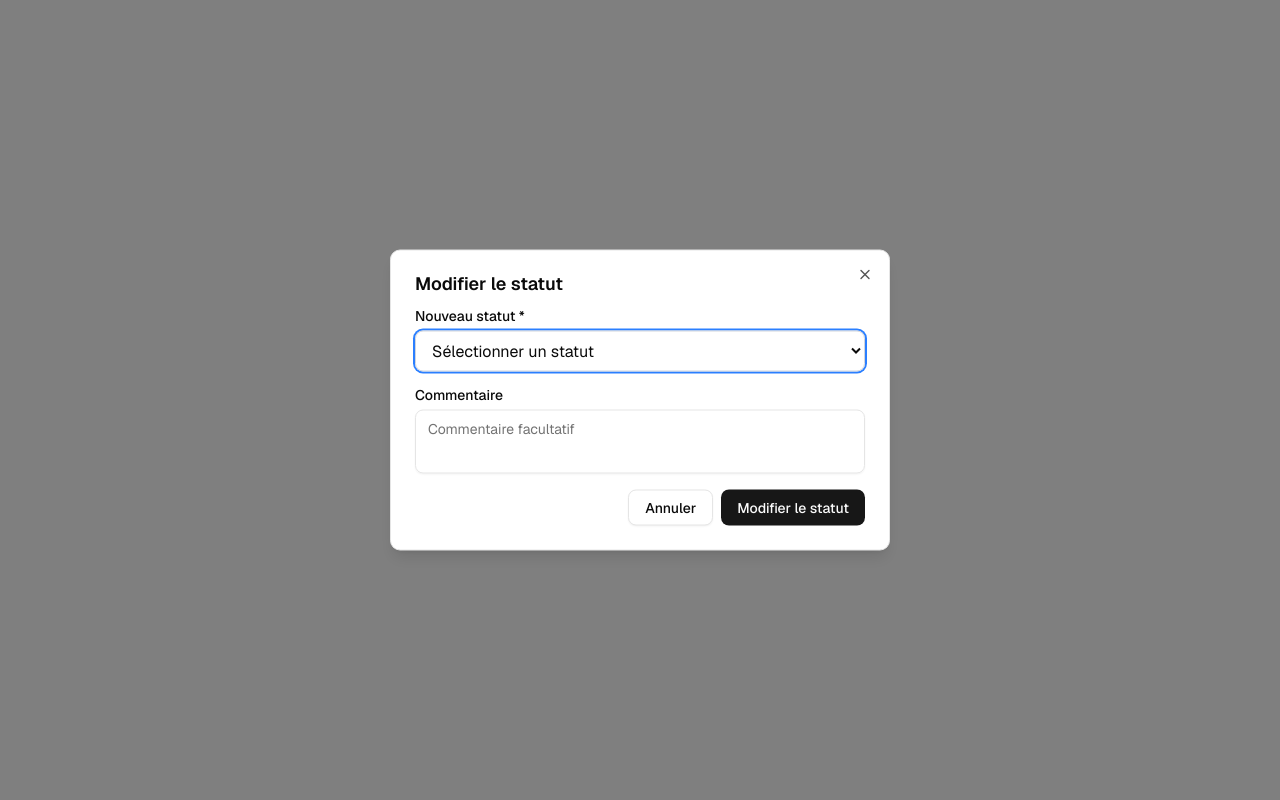
Test: StatusModifierDialog › affiche une erreur quand aucun statut n'est sélectionné
Click the button "Modifier le statut" at (793, 508), box x1=721 y1=490 x2=865 y2=526
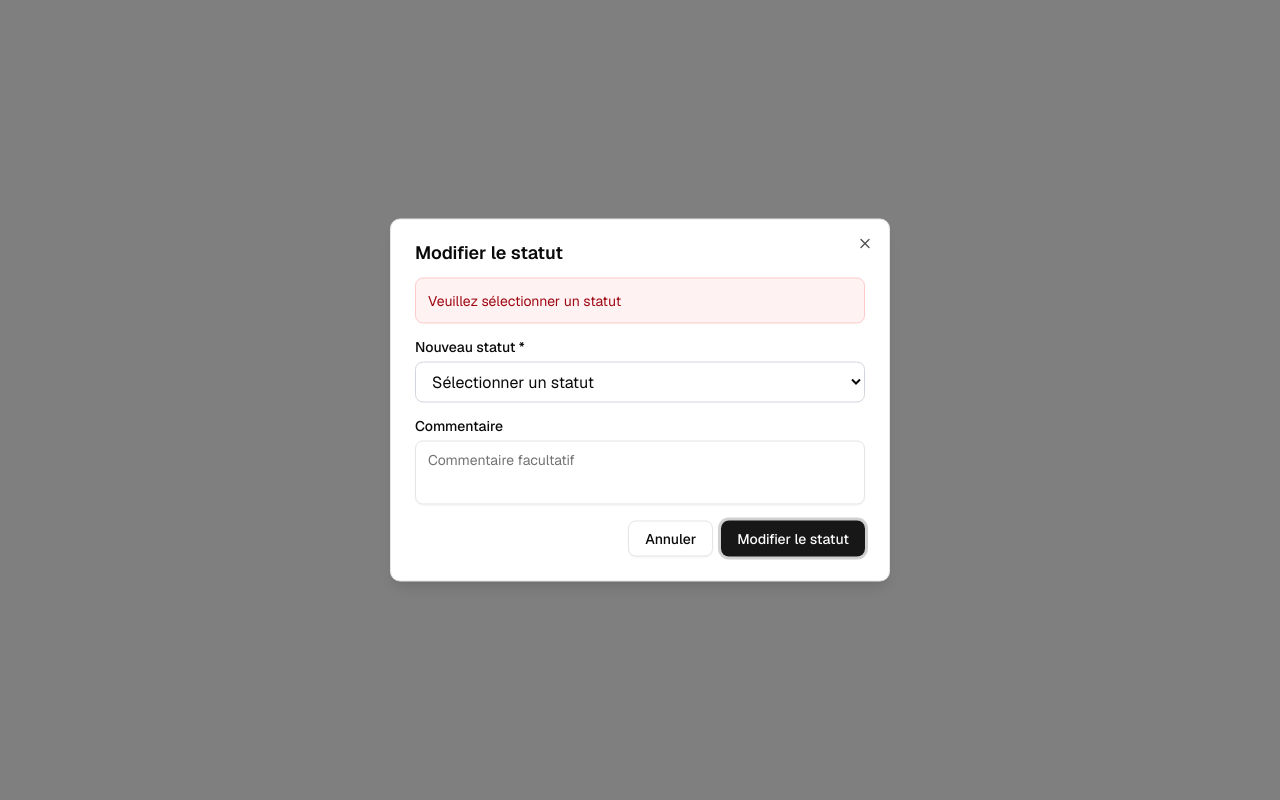
Expected: the text "Veuillez sélectionner un statut" is shown, x1=415 y1=278 x2=865 y2=324
